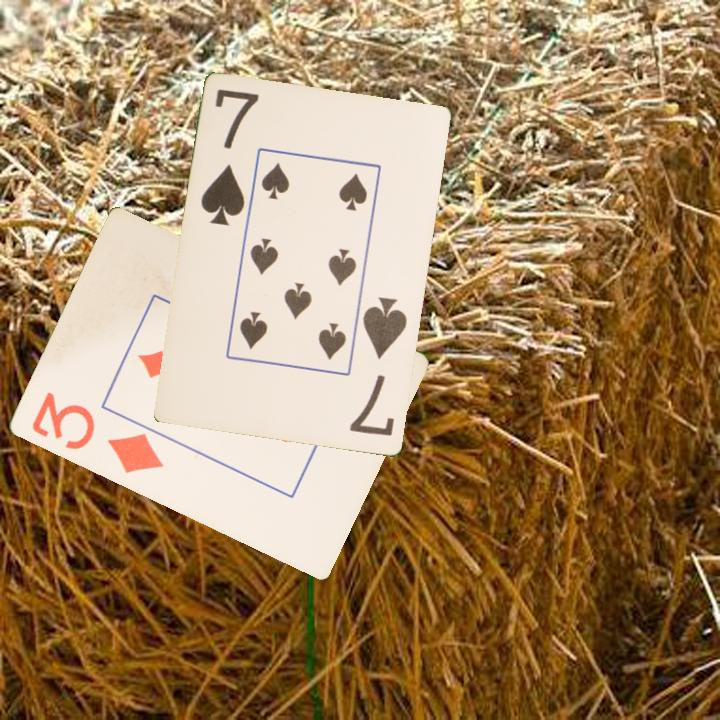3d: (27, 388, 166, 477)
7s: (197, 86, 263, 230), (346, 294, 411, 440)
